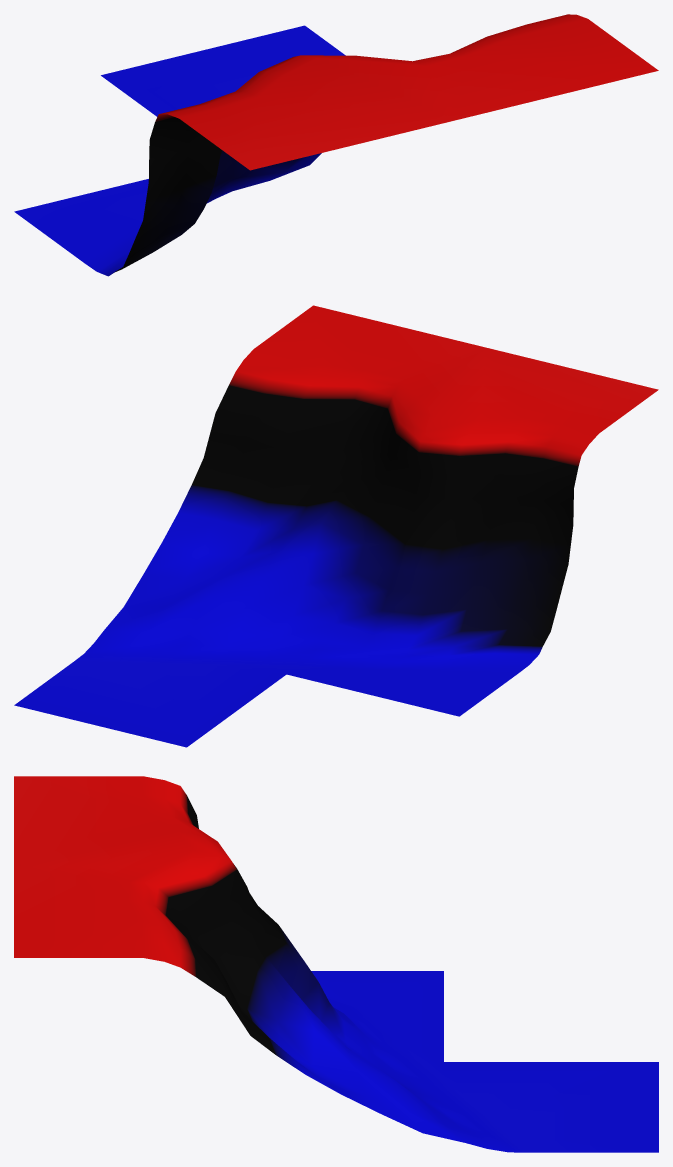
File: RiverCliffToRiverBank00B Background.fbx
The picture shows the model from 3 angles, top to bottom: view 1: azimuth 30°, elevation 25°; view 2: azimuth 150°, elevation 25°; view 3: azimuth 270°, elevation 25°; orthographic projection. The views are drawn at different scales.
Visible parts, largest first — view 1: RiverCliffToRiverBank00B Background; view 2: RiverCliffToRiverBank00B Background; view 3: RiverCliffToRiverBank00B Background.
Part boxes in pixels (x1,y1,x2,y2): RiverCliffToRiverBank00B Background: (14, 14, 658, 276); RiverCliffToRiverBank00B Background: (14, 305, 658, 747); RiverCliffToRiverBank00B Background: (14, 776, 658, 1152).
Size of the model in its own units: 2 by 1 by 3.
